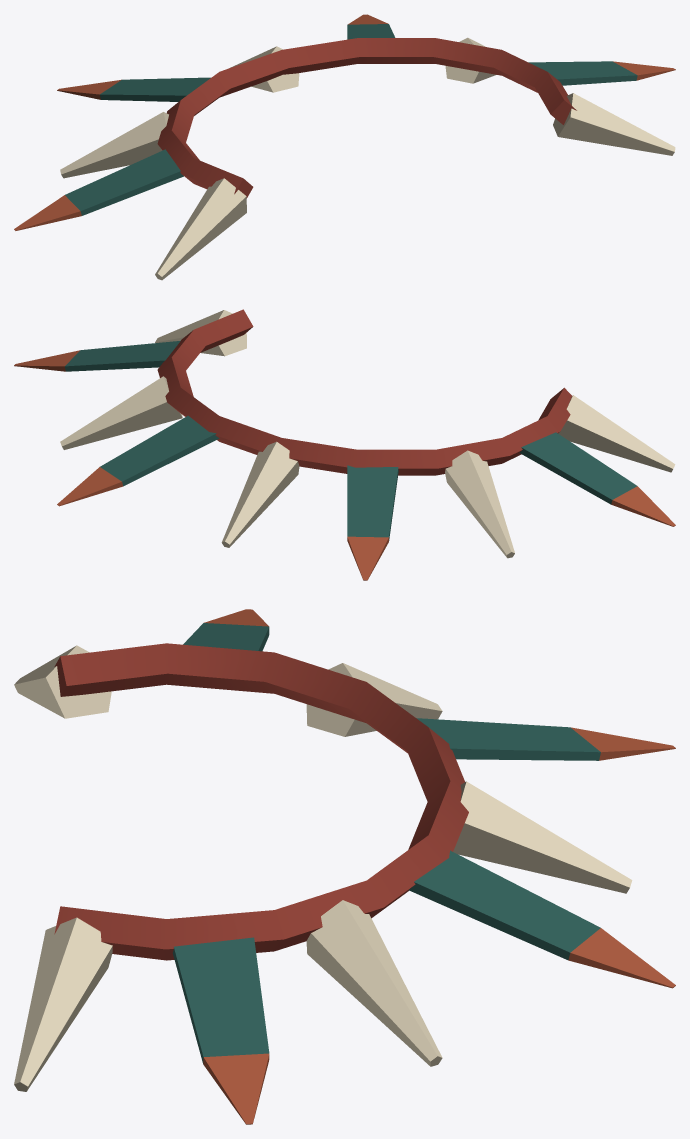
Rendered from xama_back.fbx.
3 renders of one model, top to bottom at view 1: azimuth 30°, elevation 25°; view 2: azimuth 150°, elevation 25°; view 3: azimuth 270°, elevation 25°, orthographic. The views are drawn at different scales.
Visible parts, largest first — view 1: xama_back; view 2: xama_back; view 3: xama_back.
Boxes of the visible parts, <box> form: xama_back: <box>14,14,675,280</box>; xama_back: <box>14,309,675,580</box>; xama_back: <box>14,609,675,1124</box>.
Bounding box in the file's own units: 1.87 × 0.187 × 1.01.
